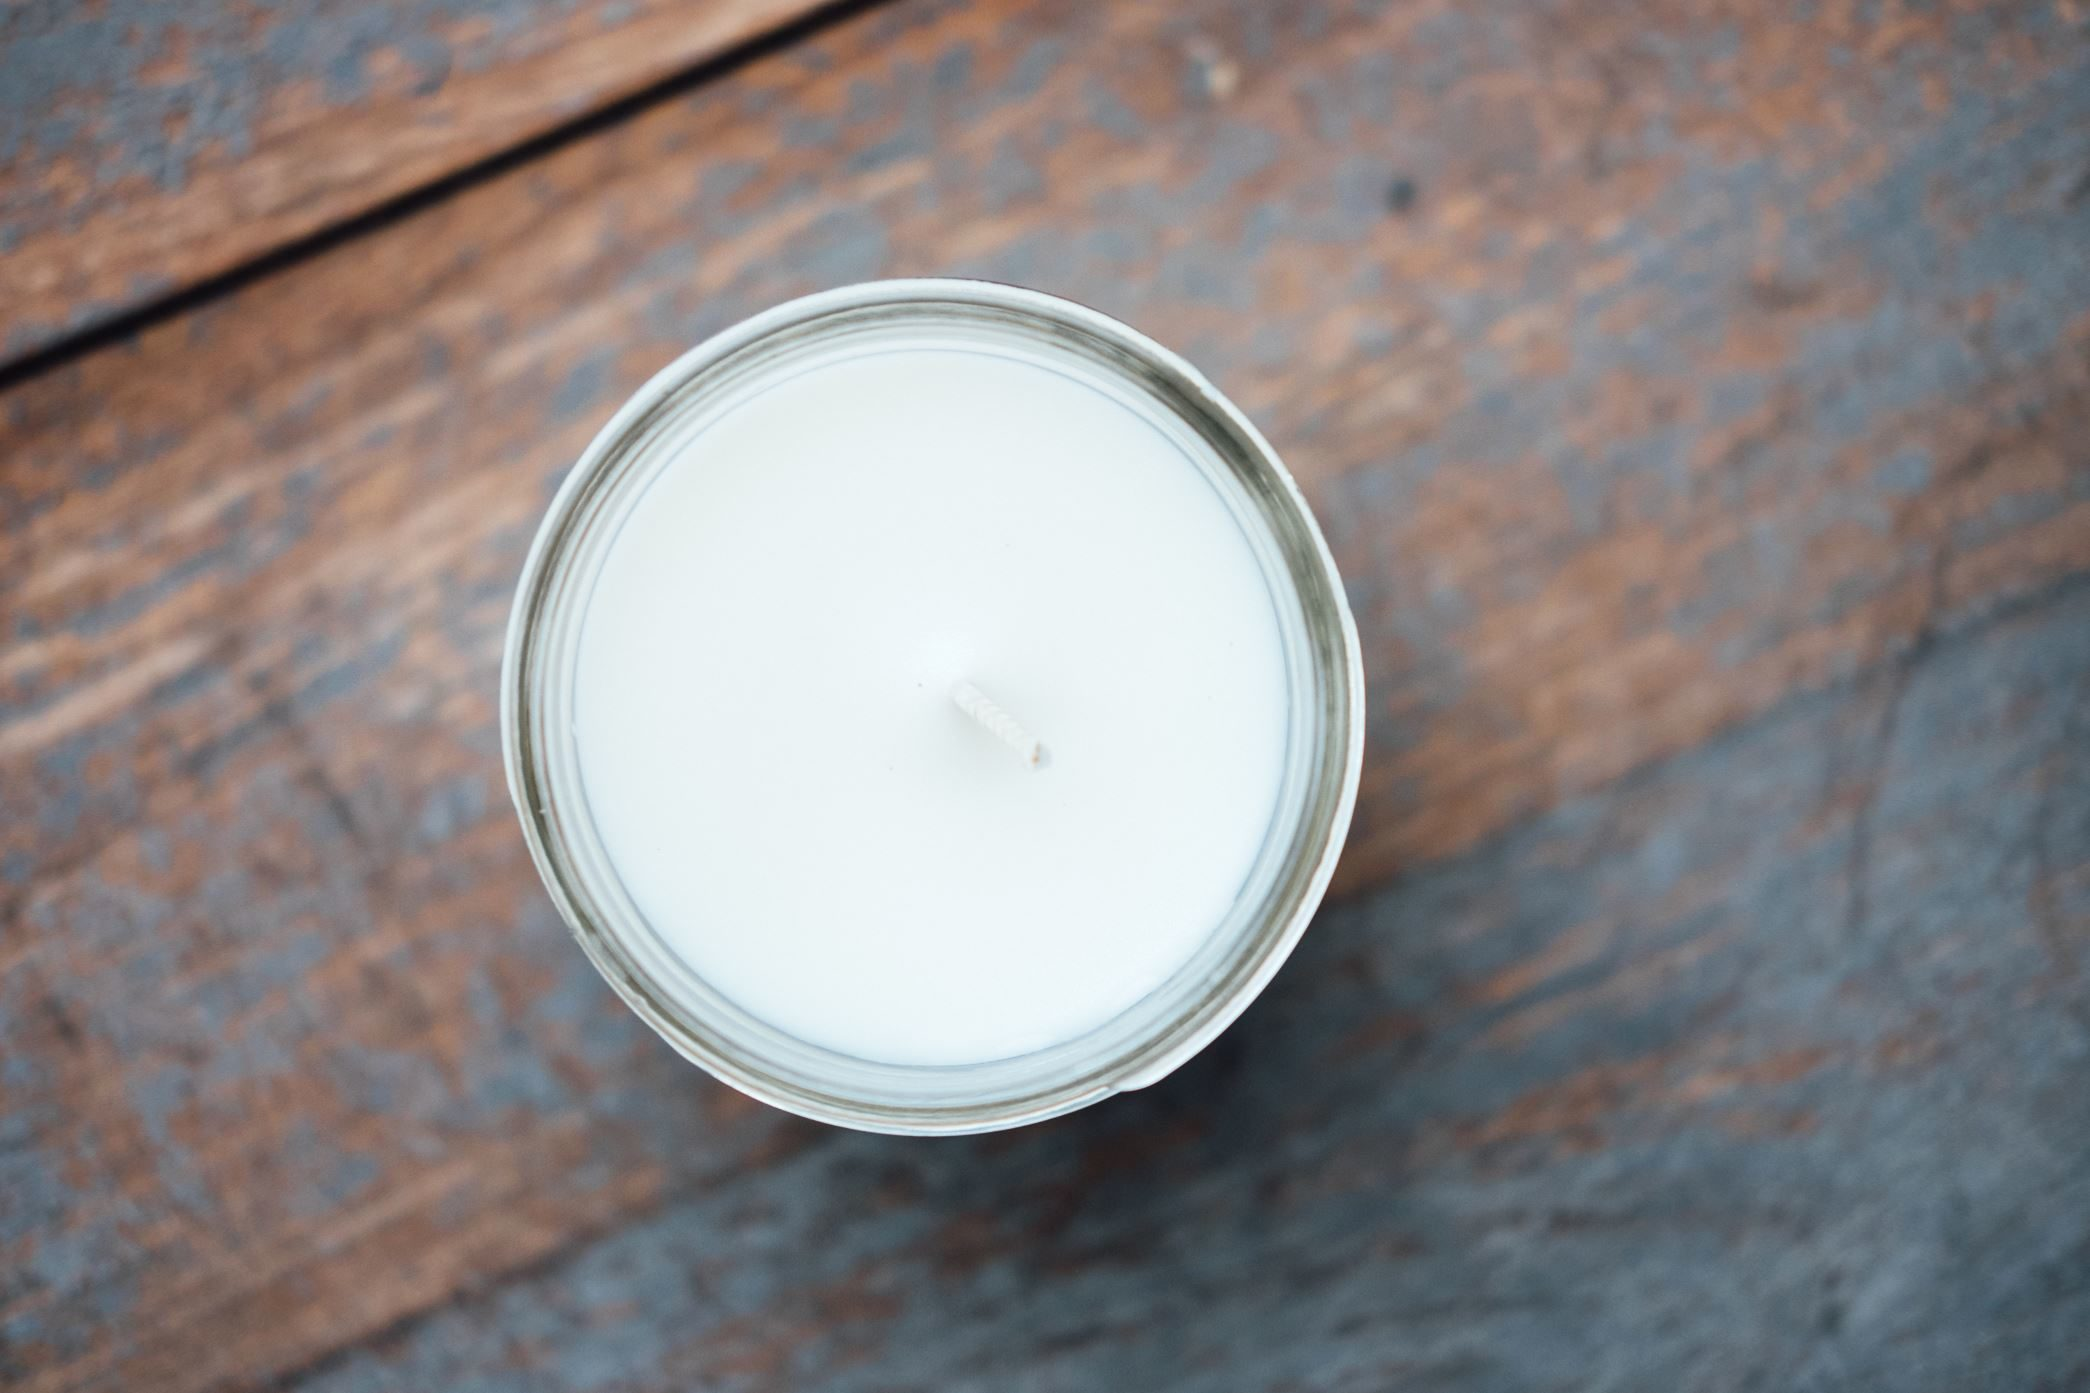glass of milk: (471, 275, 1408, 1175)
